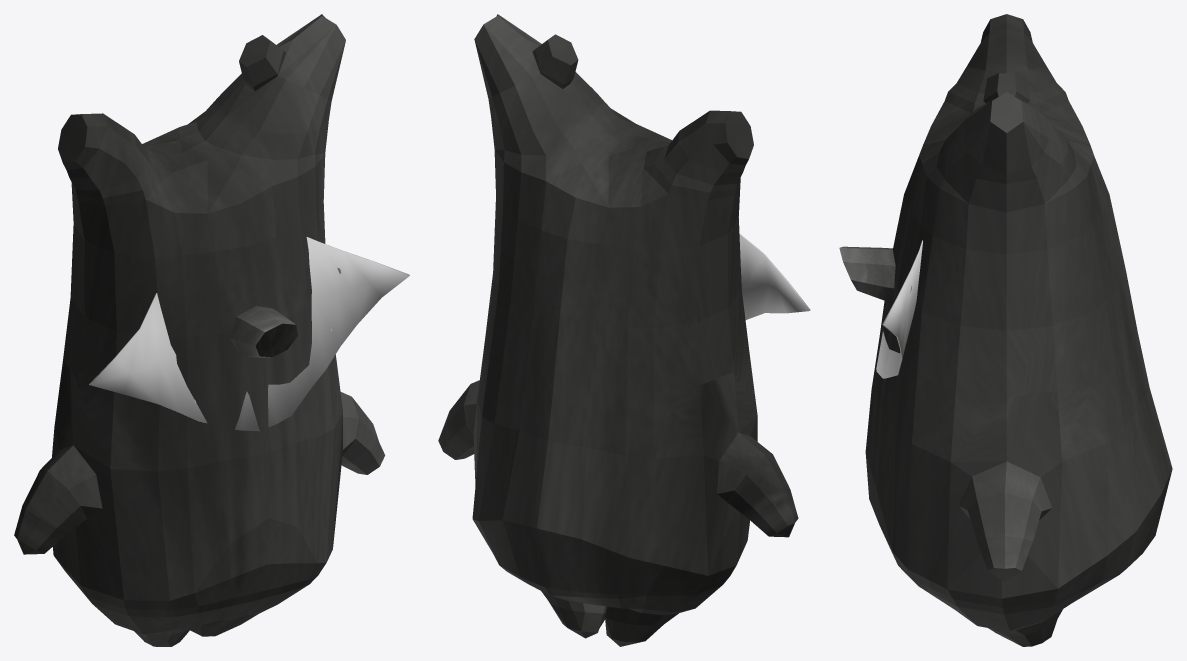
File: frame_0012.obj
3 renders of one model, left to right at view 1: azimuth 30°, elevation 25°; view 2: azimuth 150°, elevation 25°; view 3: azimuth 270°, elevation 25°, orthographic. The views are drawn at different scales.
Parts seen in each view (by area): view 1: korok, leaf, nose; view 2: korok, leaf; view 3: korok, leaf, nose.
Boxes of the visible parts, <box> form: korok: <box>14,14,385,646</box>; leaf: <box>89,237,409,431</box>; nose: <box>229,306,297,357</box>; korok: <box>438,14,798,646</box>; leaf: <box>739,233,810,319</box>; korok: <box>865,14,1172,646</box>; leaf: <box>876,240,922,378</box>; nose: <box>839,246,895,301</box>.
Bounding box in the file's own units: 1.6 × 2.54 × 1.27.
